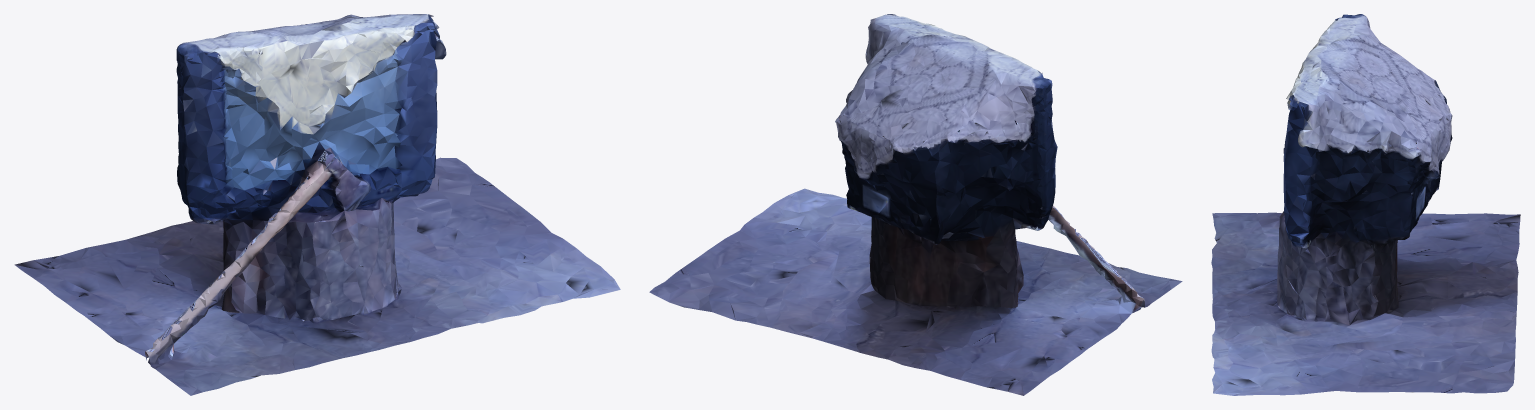
Rendered from maxmustermann.glb.
The picture shows the model from 3 angles, left to right: view 1: azimuth 30°, elevation 25°; view 2: azimuth 150°, elevation 25°; view 3: azimuth 270°, elevation 25°; orthographic projection. The views are drawn at different scales.
Visible parts, largest first — view 1: tv; view 2: tv; view 3: tv.
Part boxes in pixels (x1,y1,x2,y2): tv: [14, 14, 620, 395]; tv: [649, 14, 1182, 395]; tv: [1211, 14, 1520, 395].
Bounding box in the file's own units: 1.4 × 0.8395 × 0.9908.
1 material, 1 textured.
